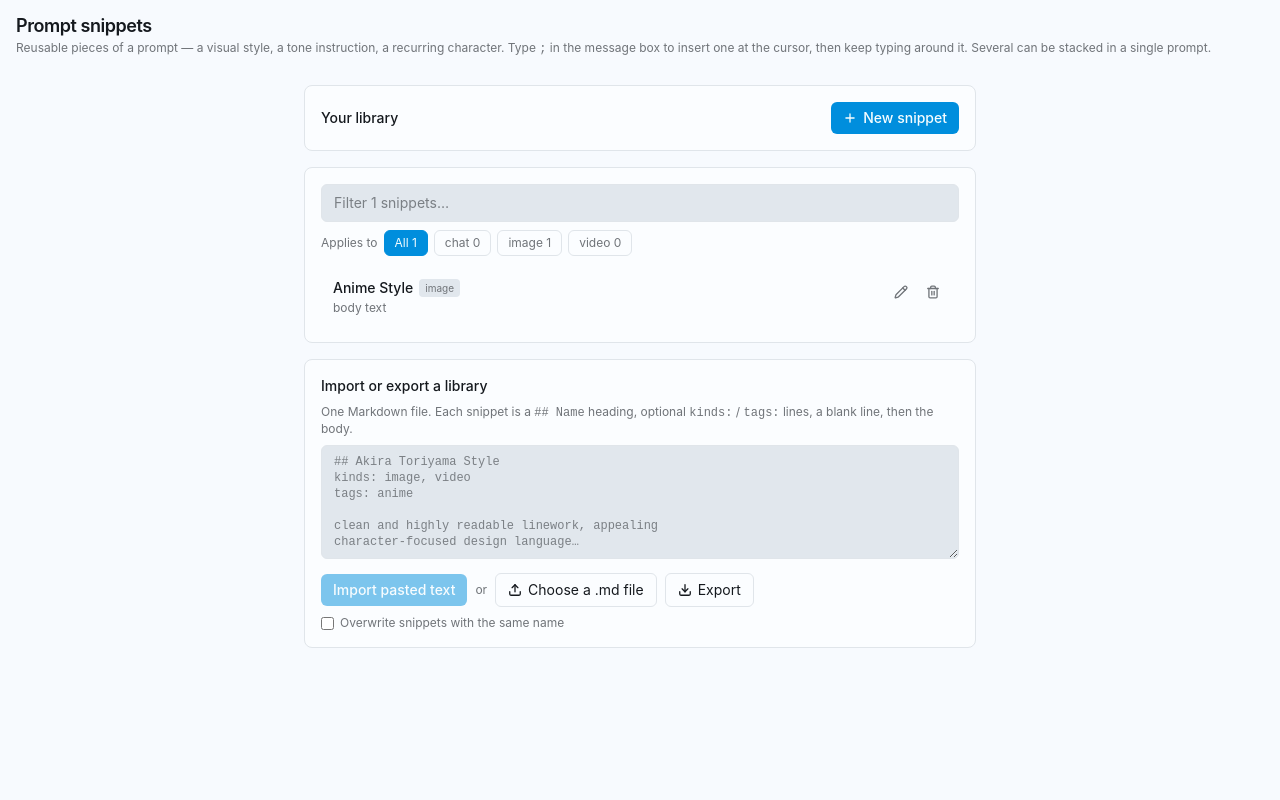
Scenario: snippets settings — modality quick-filter › names the modality when a kind filter alone empties the list
The image size is (1280, 800).
What coordinates should you click on to do the following:
click the button "chat 0"
I would click on:
 (463, 243)
Its box is [434,230,492,256].
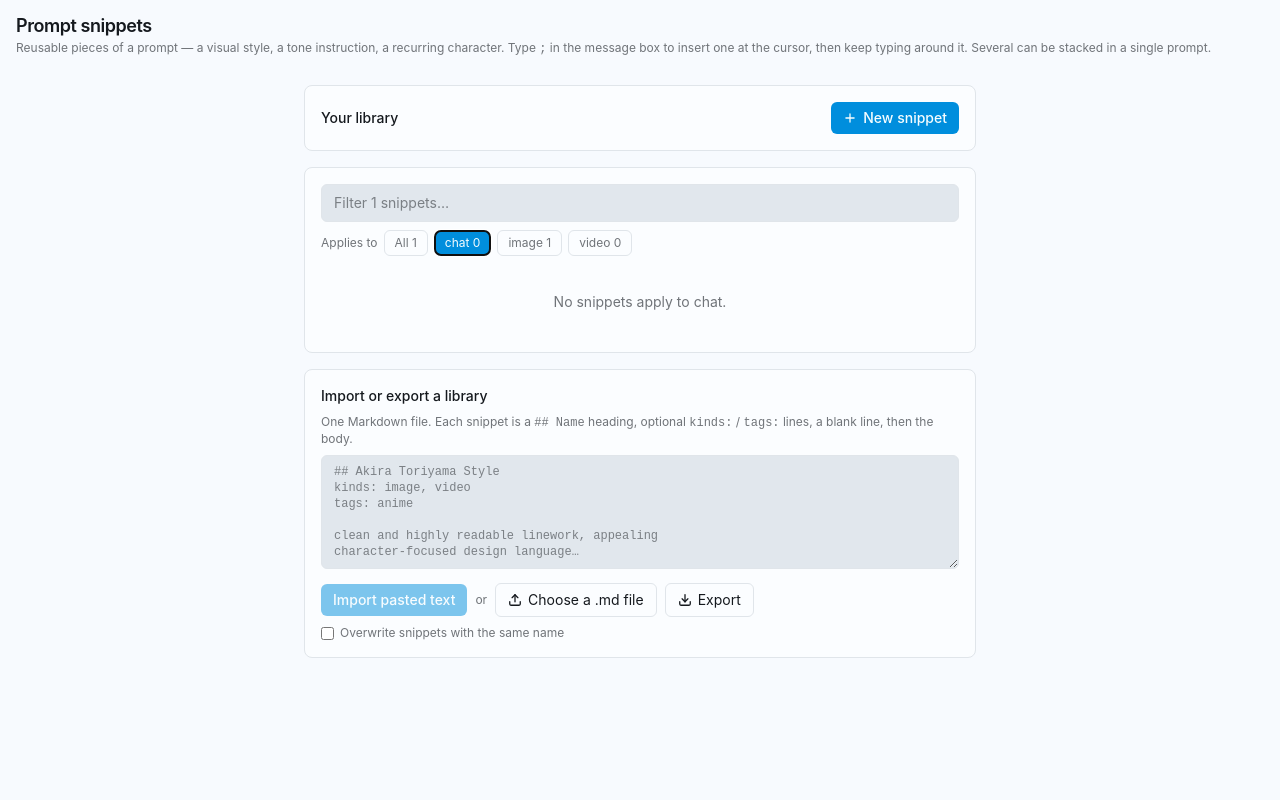
Check: the text "No snippets apply to chat." is shown, box [554,293,726,310]
